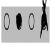correct: (15, 11, 23, 32)
not correct: (40, 0, 48, 39)
